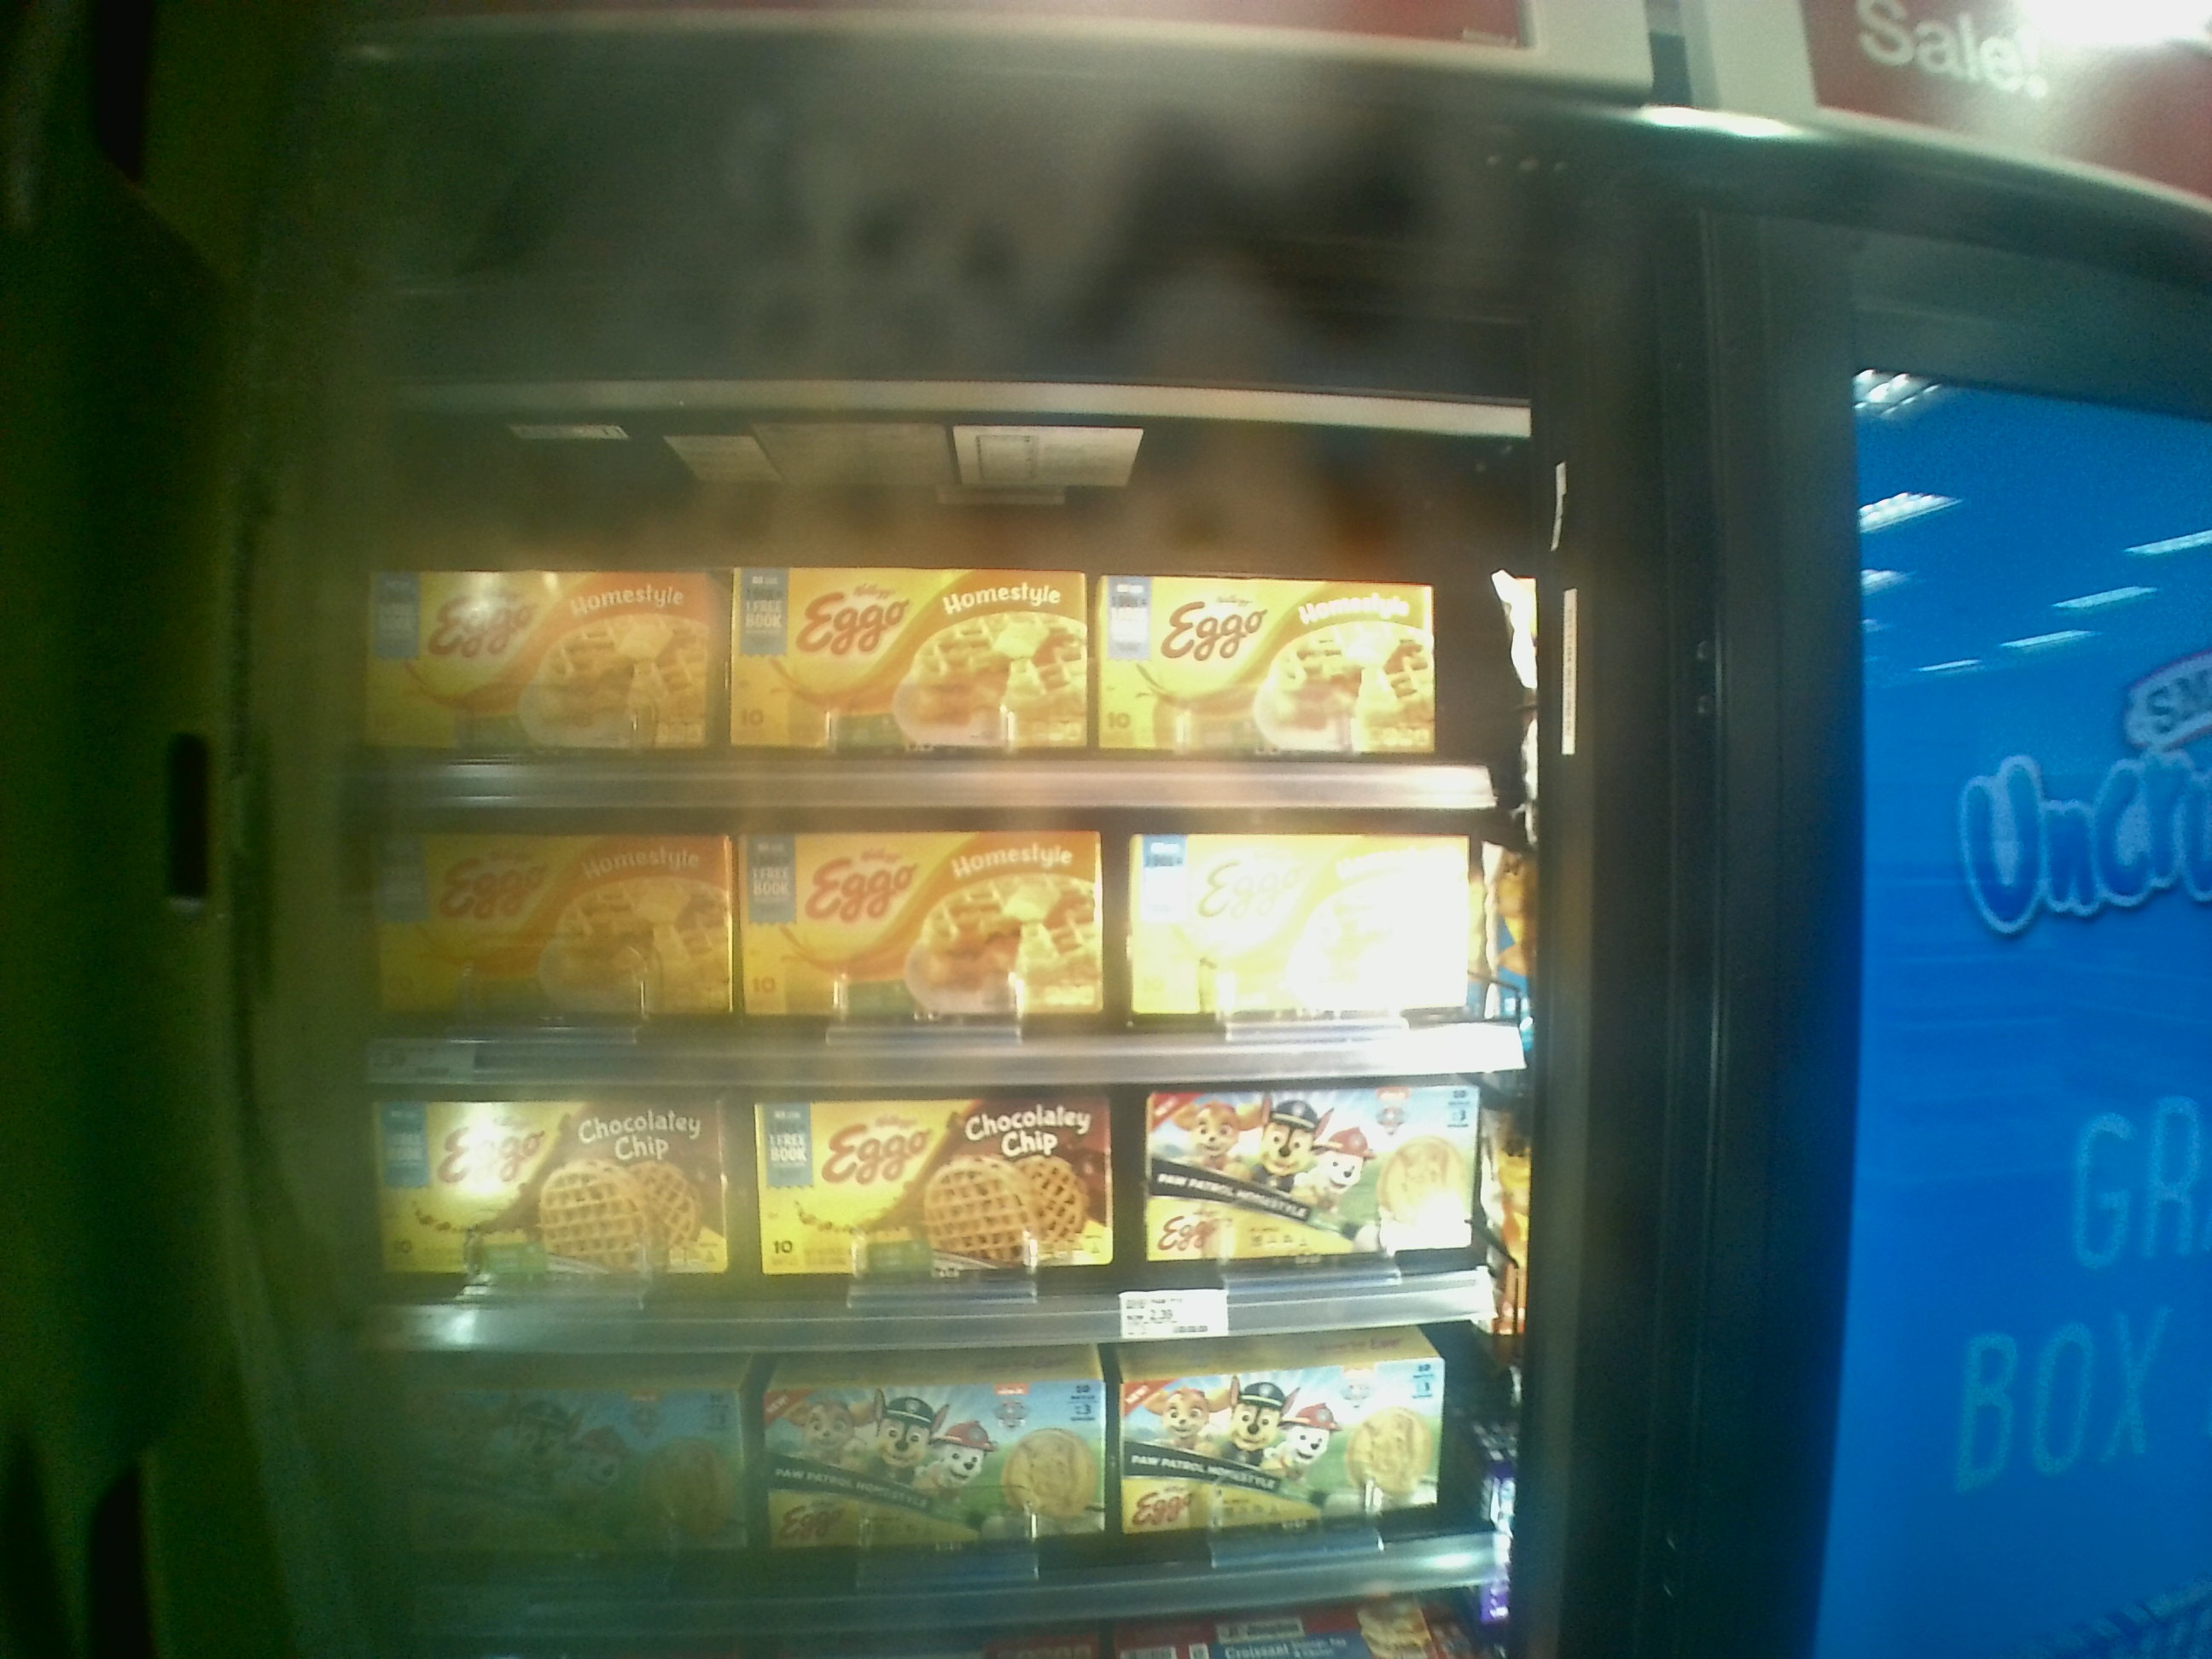frozen-food-shelf: (364, 373, 1524, 814), (361, 1070, 1524, 1354)
